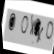correct: (6, 13, 18, 32)
not correct: (25, 12, 47, 47)
